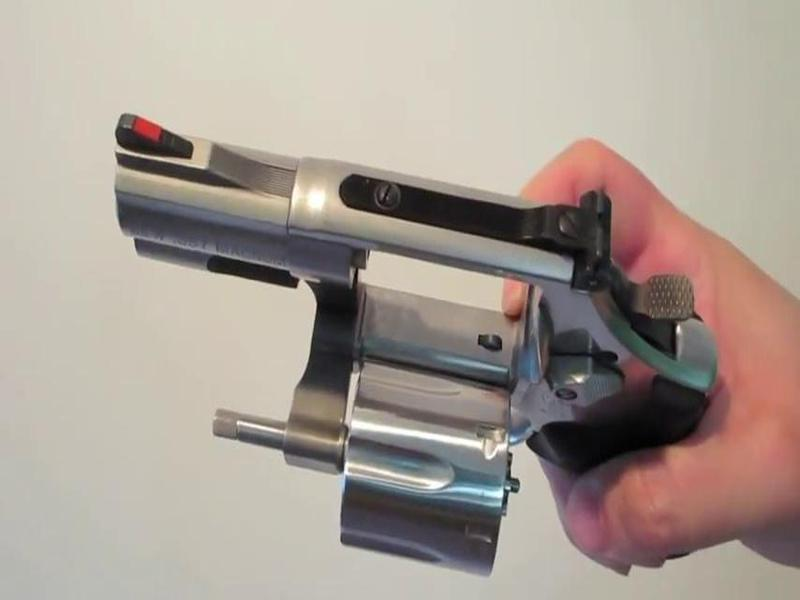Revolver: (88, 100, 742, 580)
